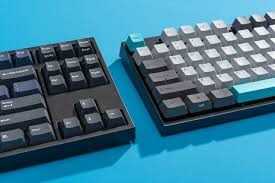keyboard: (11, 15, 270, 163)
